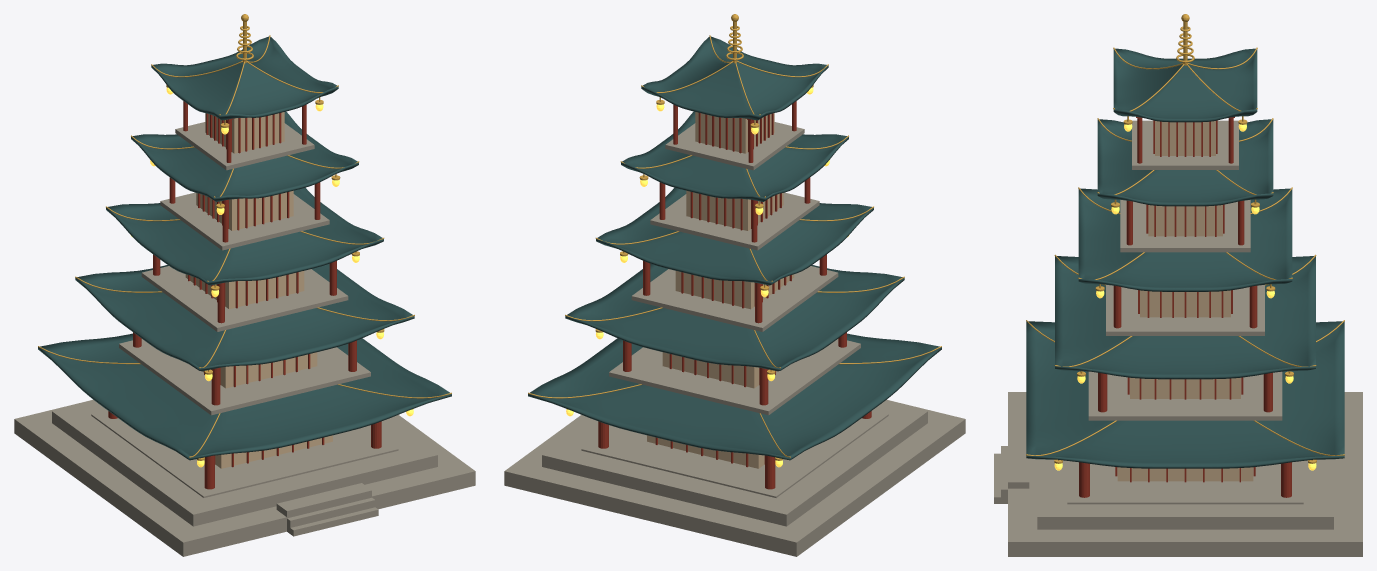
3 views of the same model, side by side, from view 1: azimuth 30°, elevation 25°; view 2: azimuth 150°, elevation 25°; view 3: azimuth 270°, elevation 25° (orthographic). The views are drawn at different scales.
Parts seen in each view (by area): view 1: Tier 1 roof, Tier 2 roof, Podium lower, Podium upper, Tier 3 roof, Tier 5 roof, Tier 4 roof, Tier 1 floor, Tier 2 floor, Tier 3 floor, Tier 4 floor, Tier 5 floor (+8 smaller); view 2: Tier 1 roof, Podium lower, Tier 2 roof, Podium upper, Tier 3 roof, Tier 5 roof, Tier 4 roof, Tier 1 floor, Tier 2 floor, Tier 3 floor, Tier 4 floor, Tier 5 floor (+5 smaller); view 3: Tier 1 roof, Tier 2 roof, Podium lower, Tier 3 roof, Podium upper, Tier 5 roof, Tier 4 roof, Tier 1 floor, Tier 2 floor, Tier 3 floor, Tier 4 floor, Tier 5 floor (+6 smaller).
Boxes of the visible parts, x1,y1,x2,y2 form: Tier 1 roof: (38,333,451,460); Tier 2 roof: (75,263,414,371); Podium lower: (14,399,475,556); Podium upper: (52,401,437,526); Tier 3 roof: (106,187,383,285); Tier 5 roof: (151,36,338,120); Tier 4 roof: (131,111,358,201); Tier 1 floor: (91,410,398,497); Tier 2 floor: (119,339,370,415); Tier 3 floor: (141,266,348,331); Tier 4 floor: (160,192,329,250); Tier 5 floor: (175,122,314,170); Tier 1 roof: (528,333,941,460); Podium lower: (504,399,965,556); Tier 2 roof: (565,263,904,371); Podium upper: (542,401,927,526); Tier 3 roof: (596,187,873,285); Tier 5 roof: (641,36,828,120); Tier 4 roof: (621,111,848,201); Tier 1 floor: (581,410,888,497); Tier 2 floor: (609,339,860,415); Tier 3 floor: (631,266,838,331); Tier 4 floor: (650,192,819,250); Tier 5 floor: (665,122,804,170); Tier 1 roof: (1026,321,1344,468); Tier 2 roof: (1055,256,1315,379); Podium lower: (1008,392,1362,556); Tier 3 roof: (1078,188,1292,291); Podium upper: (1037,459,1333,529); Tier 5 roof: (1113,48,1257,122); Tier 4 roof: (1097,119,1273,206); Tier 1 floor: (1067,461,1303,504); Tier 2 floor: (1088,371,1282,420); Tier 3 floor: (1106,285,1264,335); Tier 4 floor: (1120,200,1250,252); Tier 5 floor: (1132,120,1238,169).
Bounding box in the file's own units: 11.88 × 17.28 × 12.35.
